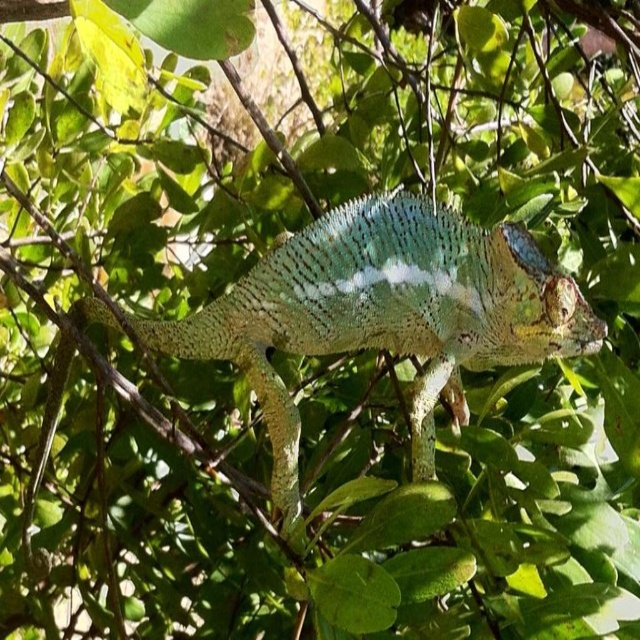Lizard: (115, 178, 591, 534)
